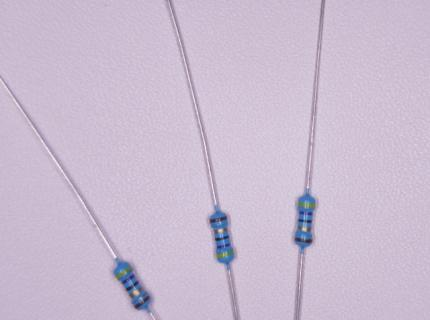Black band: (125, 280, 140, 292), (215, 235, 230, 241), (298, 219, 312, 224)
Brown band: (134, 295, 151, 310), (209, 216, 228, 224), (294, 237, 312, 243)
Gold band: (129, 287, 145, 299), (297, 225, 312, 232), (213, 228, 228, 234)
Violet band: (121, 274, 136, 285), (216, 243, 231, 249), (299, 211, 313, 216)
Yellow band: (115, 266, 133, 280), (216, 251, 234, 259), (297, 202, 315, 208)
